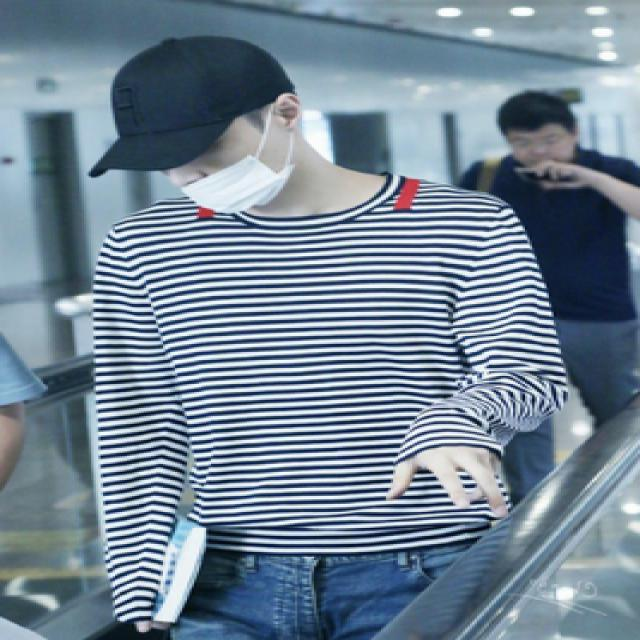no_mask: (160, 118, 288, 212), (508, 123, 578, 168)
